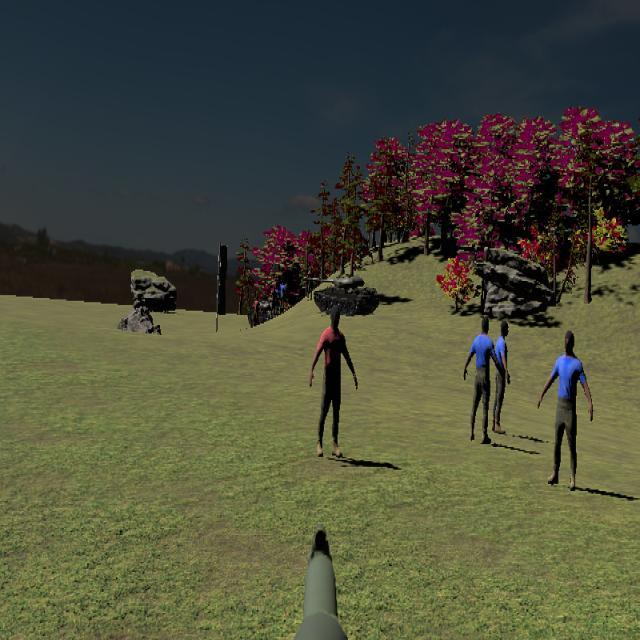Human: (537, 329, 593, 491), (309, 301, 358, 458), (463, 316, 504, 443), (491, 318, 511, 434), (492, 319, 511, 427)
Tank: (302, 274, 379, 316)
